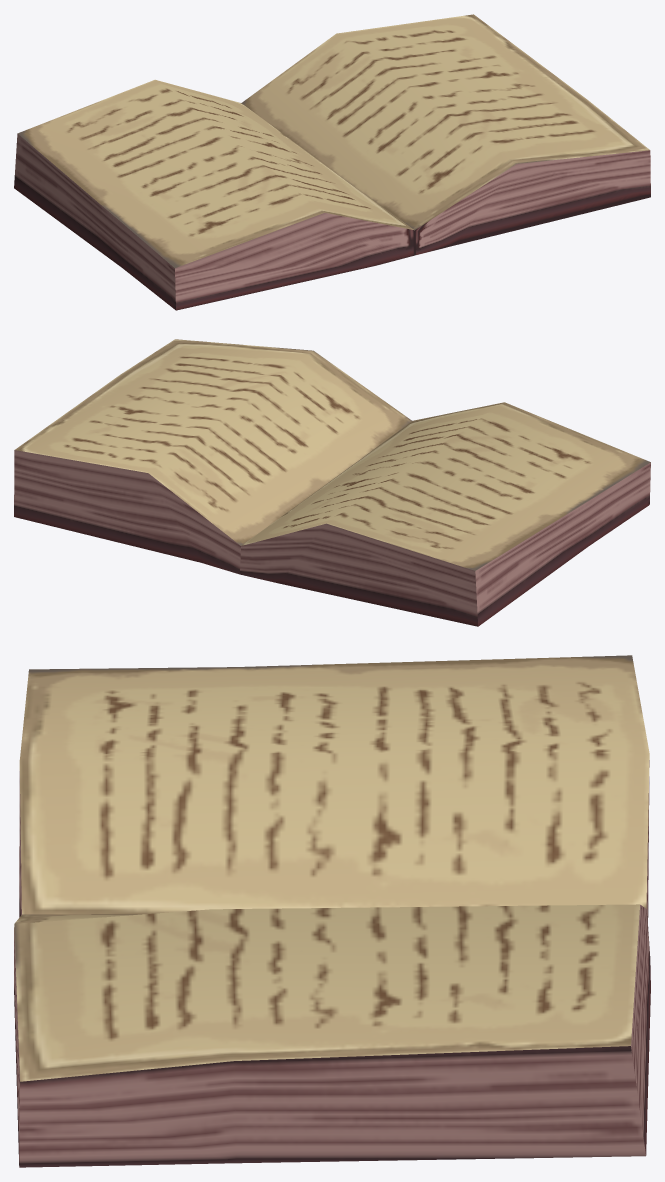
File: SM_PROP_book_battle_01.fbx
The picture shows the model from 3 angles, top to bottom: view 1: azimuth 30°, elevation 25°; view 2: azimuth 150°, elevation 25°; view 3: azimuth 270°, elevation 25°; orthographic projection. The views are drawn at different scales.
Parts seen in each view (by area): view 1: SM_PROP_book_battle_01; view 2: SM_PROP_book_battle_01; view 3: SM_PROP_book_battle_01.
Part boxes in pixels (x1=…): SM_PROP_book_battle_01: x1=14, y1=14, x2=650, y2=310; SM_PROP_book_battle_01: x1=14, y1=339, x2=650, y2=626; SM_PROP_book_battle_01: x1=14, y1=655, x2=650, y2=1167.
Size of the model in its own units: 53.05 by 8.3 by 33.94.
